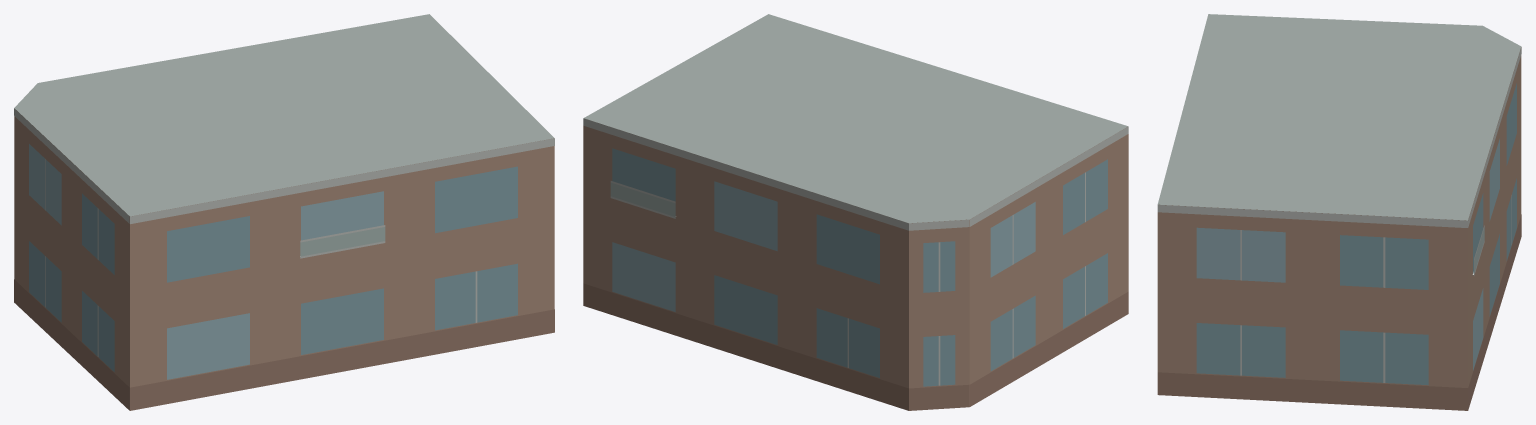
File: survey-upis-32868711.glb
3 renders of one model, left to right at view 1: azimuth 30°, elevation 25°; view 2: azimuth 150°, elevation 25°; view 3: azimuth 270°, elevation 25°, orthographic. The views are drawn at different scales.
Parts seen in each view (by area): view 1: survey-upis-32868711.tmp; view 2: survey-upis-32868711.tmp; view 3: survey-upis-32868711.tmp.
Part boxes in pixels (x1=…): survey-upis-32868711.tmp: x1=14, y1=14, x2=554, y2=410; survey-upis-32868711.tmp: x1=583, y1=14, x2=1128, y2=410; survey-upis-32868711.tmp: x1=1157, y1=14, x2=1521, y2=410.
Bounding box in the file's own units: 14.21 × 6.1 × 10.58.
